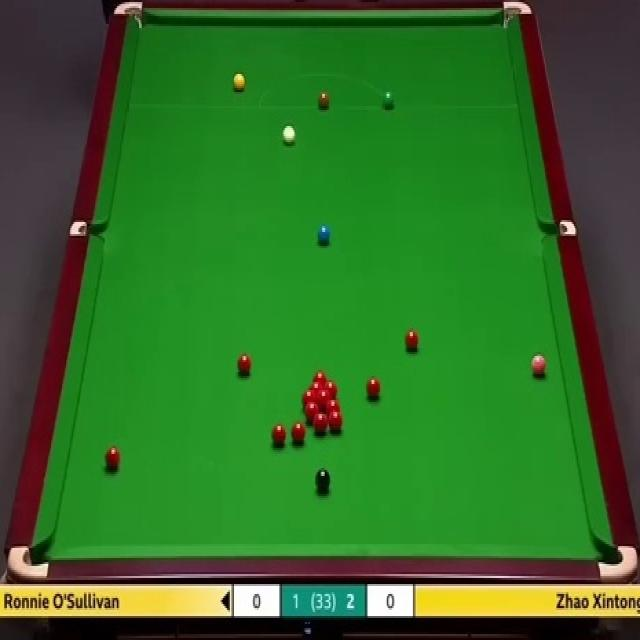black-ball: (315, 467, 331, 493)
blue-ball: (317, 224, 330, 242)
brown-ball: (317, 92, 330, 109)
green-ball: (382, 88, 396, 112)
pink-ball: (530, 353, 547, 377)
red-ball: (365, 376, 381, 402), (238, 353, 252, 378), (272, 421, 286, 446), (290, 422, 304, 447), (314, 412, 329, 433), (318, 389, 332, 411), (305, 400, 318, 423), (405, 329, 418, 352), (328, 412, 342, 432), (106, 447, 120, 467), (301, 390, 317, 407), (323, 380, 337, 399), (326, 400, 341, 416), (308, 380, 324, 392), (313, 369, 328, 381)
white-ball: (282, 124, 295, 145)
yellow-ball: (232, 72, 246, 92)
